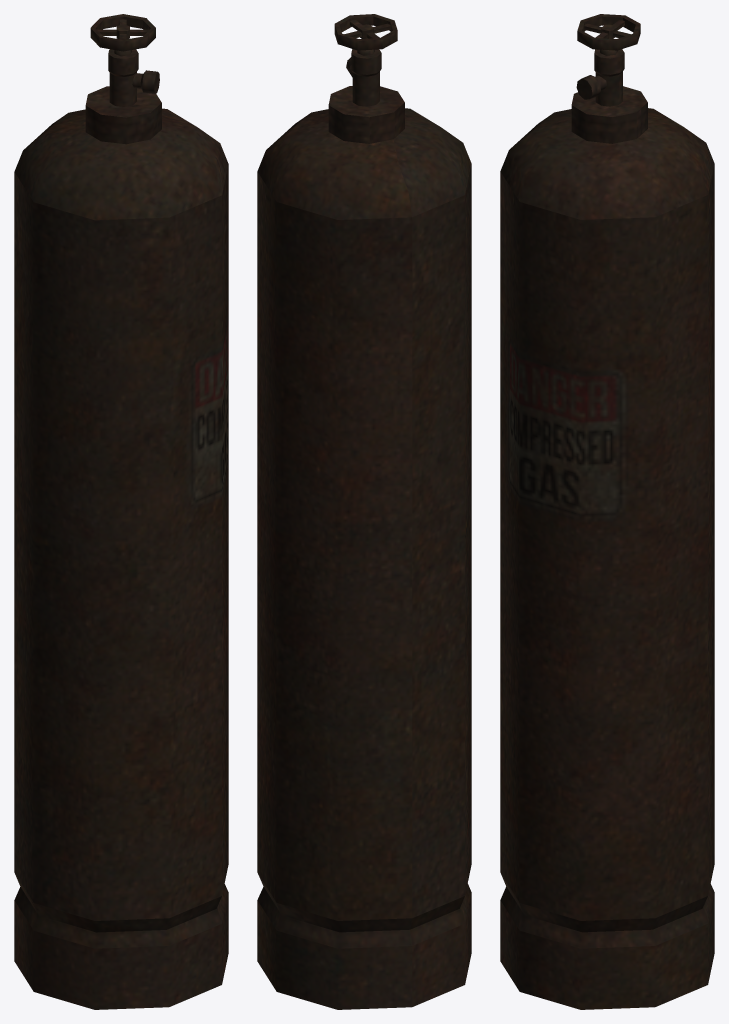
The model's file is gas_cylinder_mx_1.obj.
3 renders of one model, left to right at view 1: azimuth 30°, elevation 25°; view 2: azimuth 150°, elevation 25°; view 3: azimuth 270°, elevation 25°, orthographic.
Parts seen in each view (by area): view 1: gas_cylinder_mx_1; view 2: gas_cylinder_mx_1; view 3: gas_cylinder_mx_1.
Boxes of the visible parts, left/top/right/bottom form: gas_cylinder_mx_1: left=14, top=14, right=228, bottom=1009; gas_cylinder_mx_1: left=257, top=14, right=471, bottom=1009; gas_cylinder_mx_1: left=500, top=14, right=714, bottom=1009.
Bounding box in the file's own units: 0.3278 × 1.58 × 0.3278.
